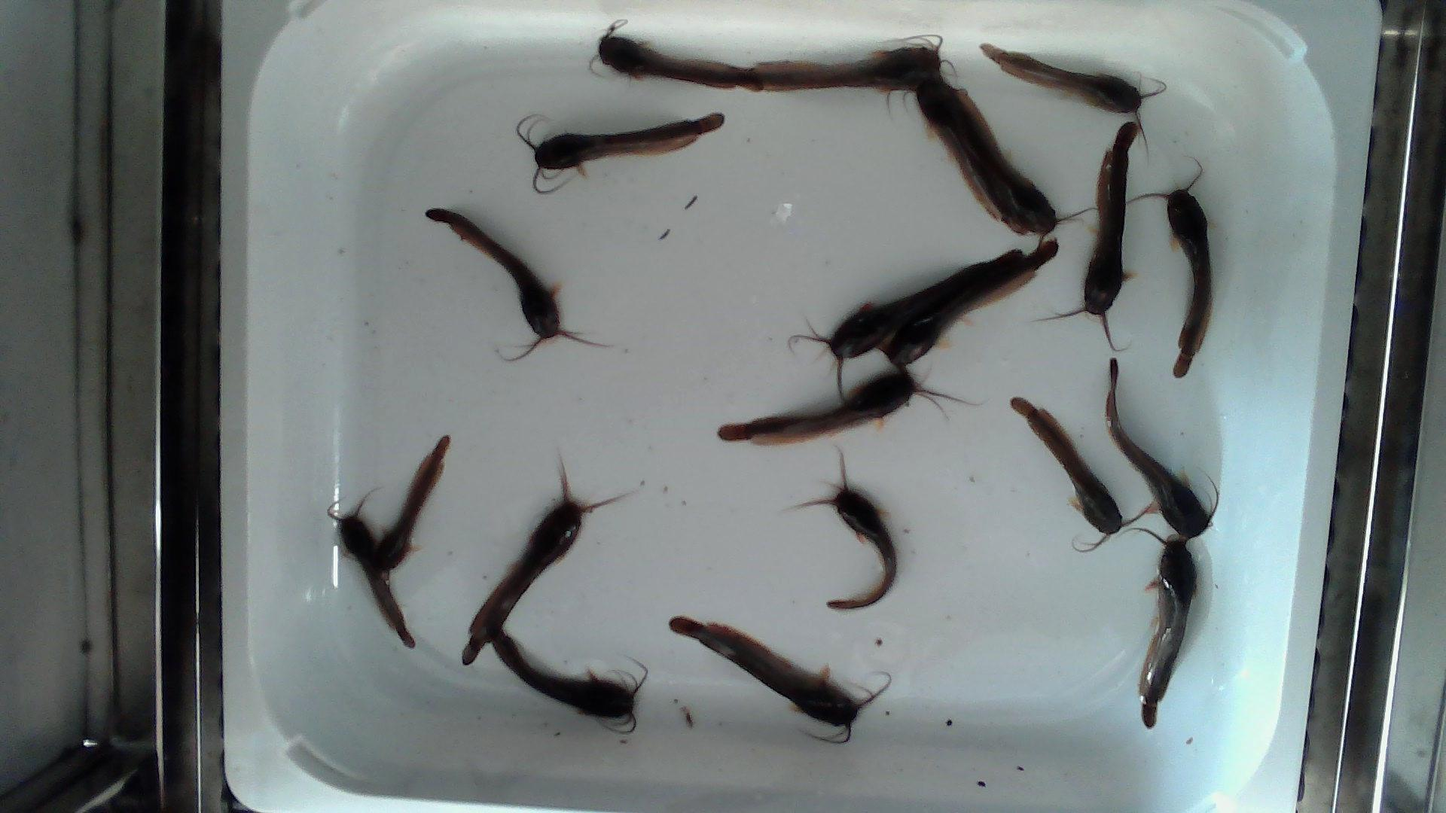lele: (462, 456, 636, 664), (787, 247, 1028, 396), (670, 617, 889, 741), (426, 209, 604, 359), (875, 240, 1062, 374), (955, 92, 1095, 252), (719, 366, 976, 444), (1106, 359, 1214, 538), (1056, 121, 1139, 351), (1129, 166, 1212, 377), (914, 80, 1028, 233), (1011, 398, 1122, 553), (489, 631, 651, 736), (518, 113, 724, 192), (981, 44, 1166, 126), (328, 487, 417, 652), (1131, 528, 1196, 728), (749, 34, 944, 97), (597, 19, 766, 91), (371, 436, 453, 576), (819, 469, 896, 609)
